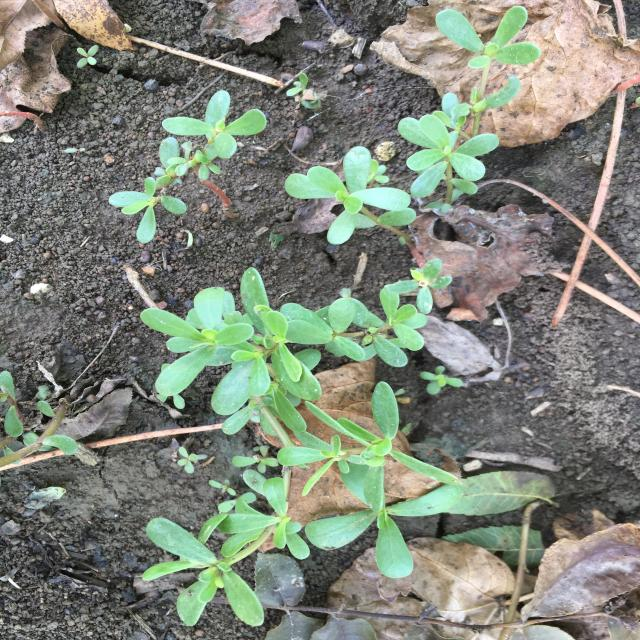Purslane: (140, 267, 428, 627), (398, 6, 541, 215), (285, 146, 453, 315), (108, 90, 266, 244), (0, 371, 78, 467), (419, 366, 463, 394), (286, 73, 321, 107), (177, 447, 208, 473), (76, 45, 99, 68)
